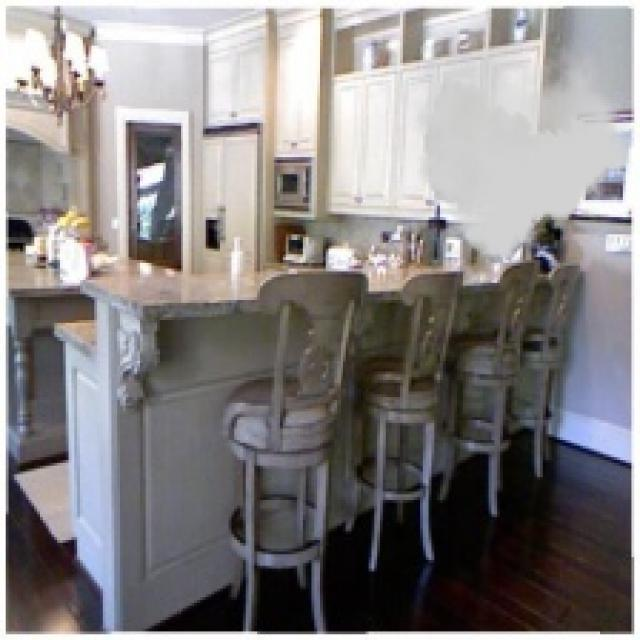Smoke: (414, 46, 632, 258)
